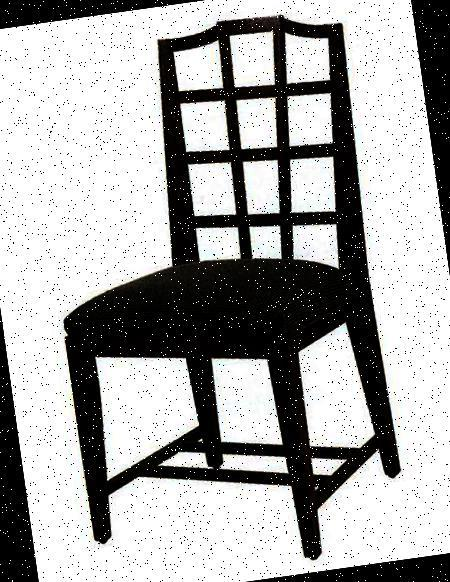Silla: (24, 10, 420, 581)
